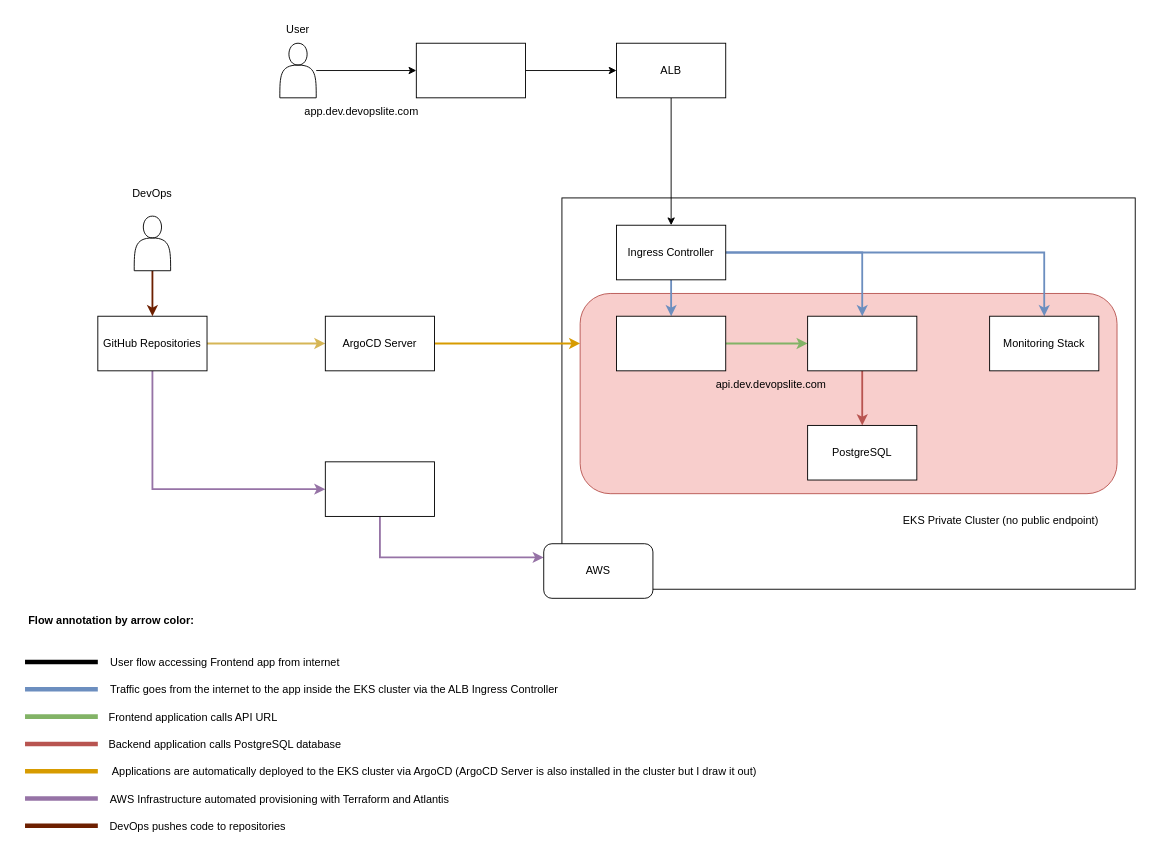
Some shapes in this 1151 by 855 pixel diagram are drawn without their labels. Here are the shapes that lost their labels. From the top down, the centre of each, then its label:
At point (470, 70): "Route53".
At point (671, 343): "Frontend App".
At point (862, 343): "Backend App".
At point (379, 488): "Atlantis Server".
